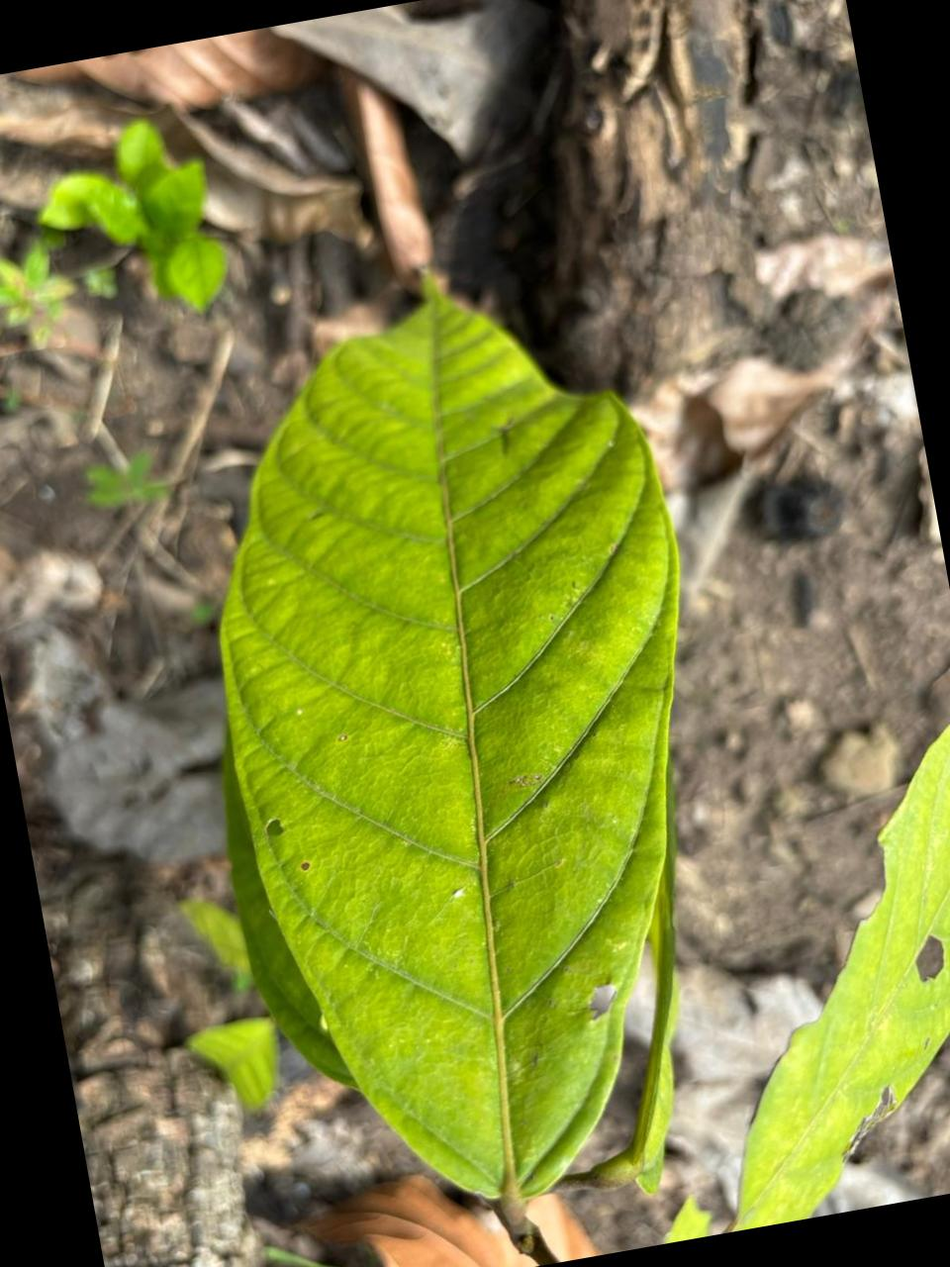Nitrogeno: (221, 292, 678, 1201)
